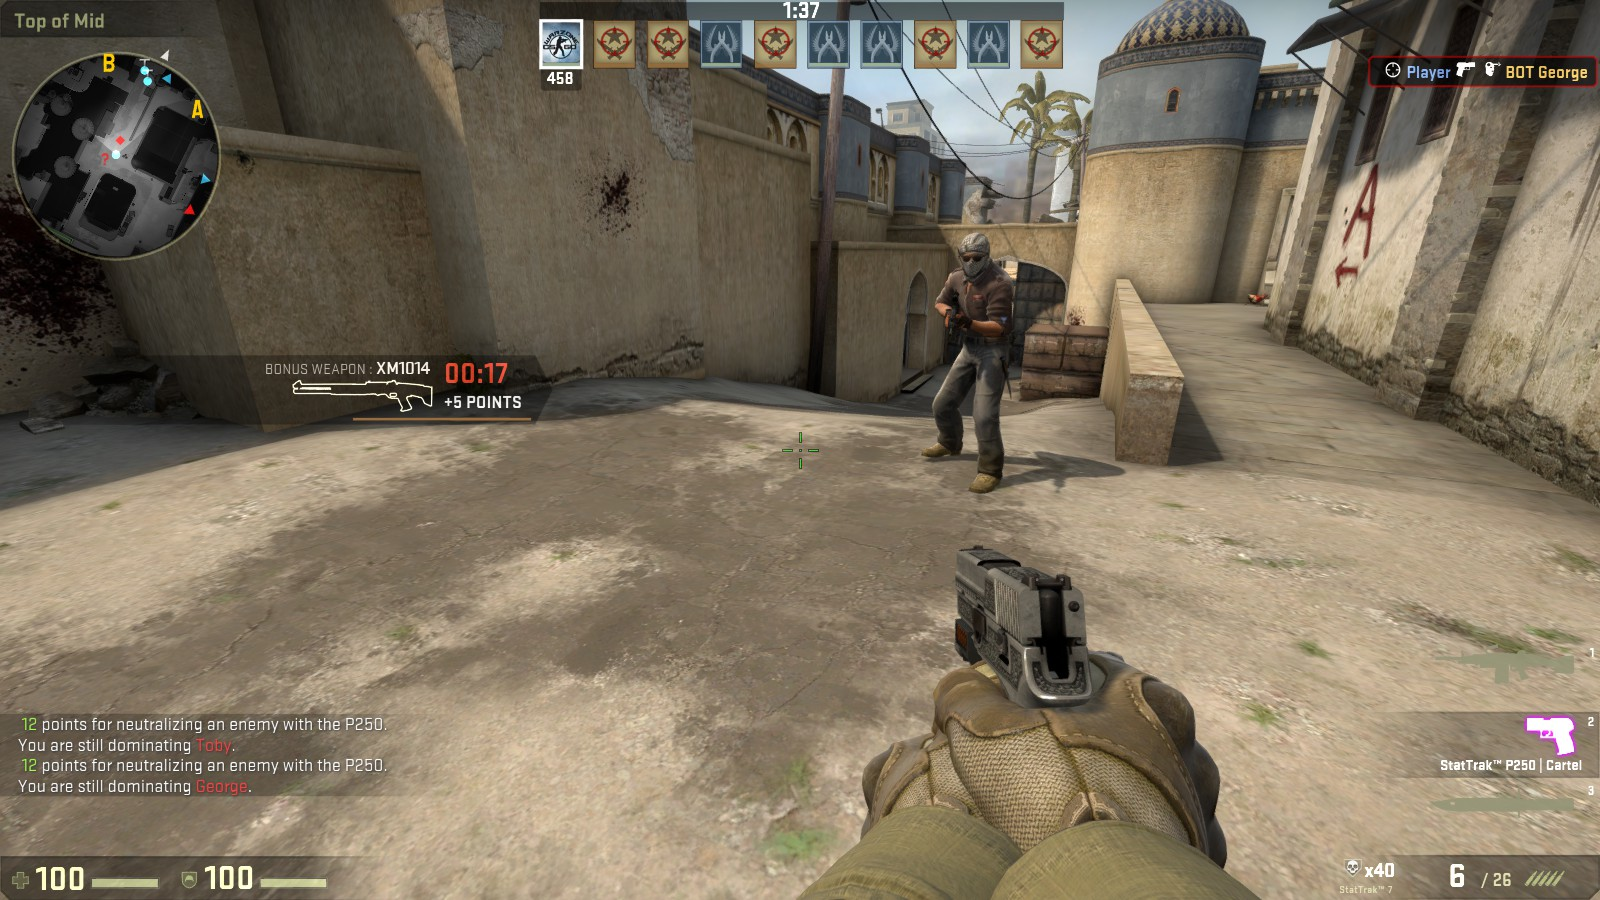t: (933, 231, 1018, 493)
th: (954, 229, 991, 284)
